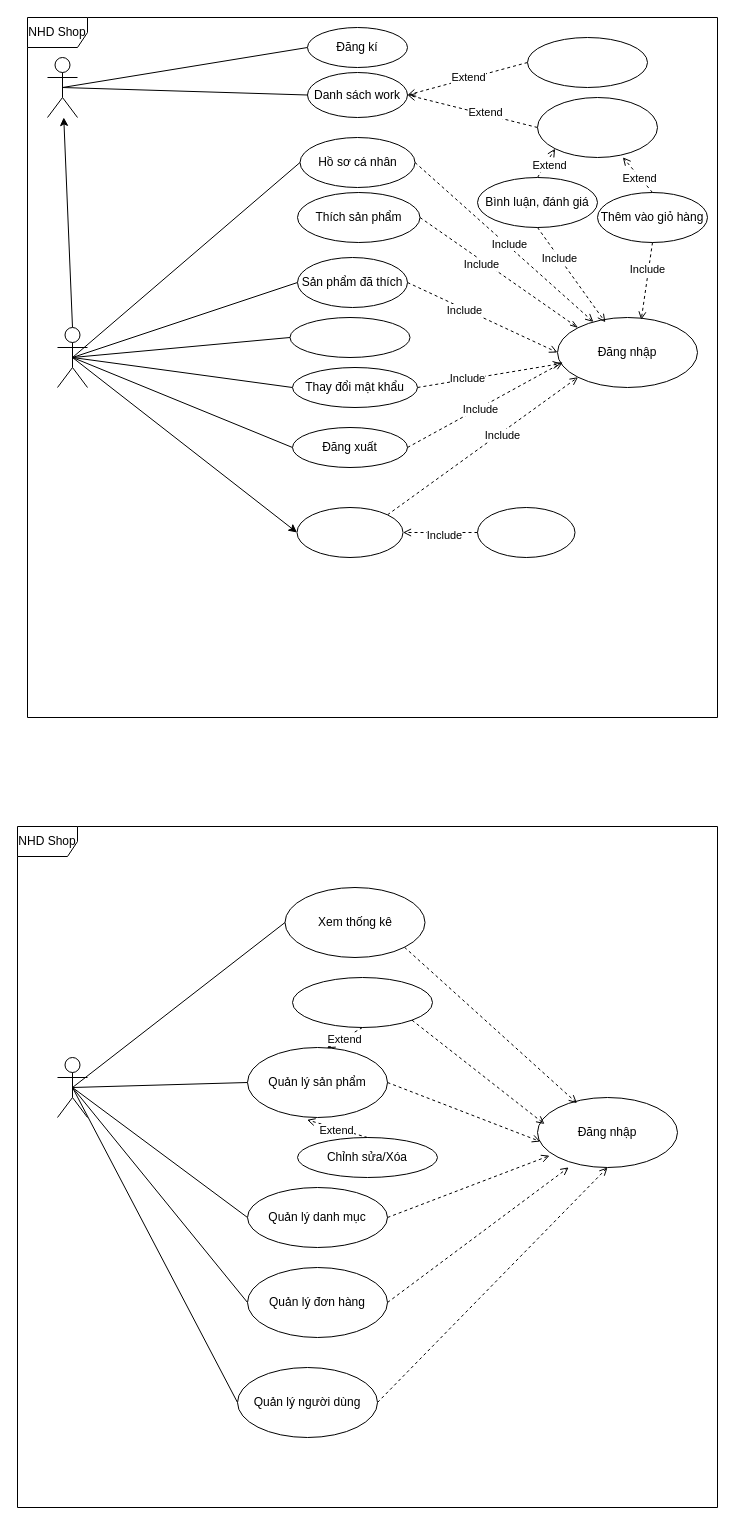
This 735x1525 diagram has some shape labels left out. The centre of each missing label's shape, as x and y in pixels:
Giỏ hàng: the point at 349,532
Khách: the point at 62,87
Người dùng: the point at 72,357
Quản trị viên: the point at 72,1087
Thanh toán: the point at 525,532
Thêm sản phẩm: the point at 362,1002
Tìm kiếm sản phẩm: the point at 587,62
Xem chi tiết sản phẩm: the point at 597,127
Đơn hàn đã mua: the point at 349,337
